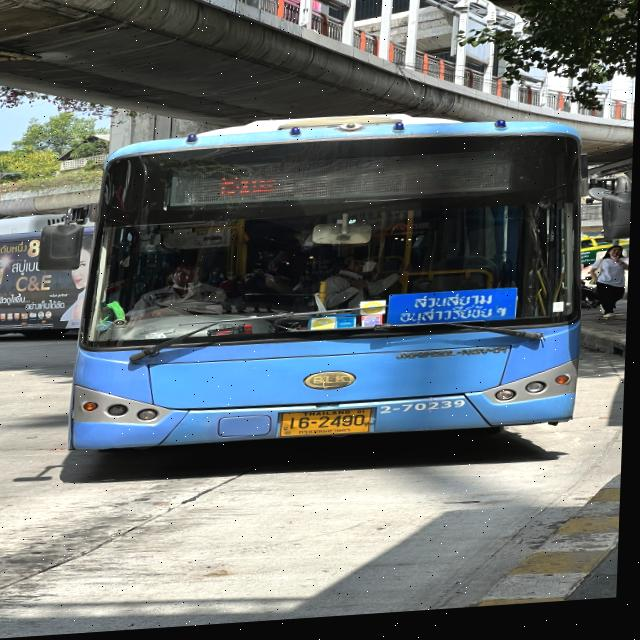BMTA-bus: (70, 109, 592, 463)
Bus-Line-Number: (414, 157, 510, 199)
Destination-Sign-Normal: (391, 292, 522, 336)
